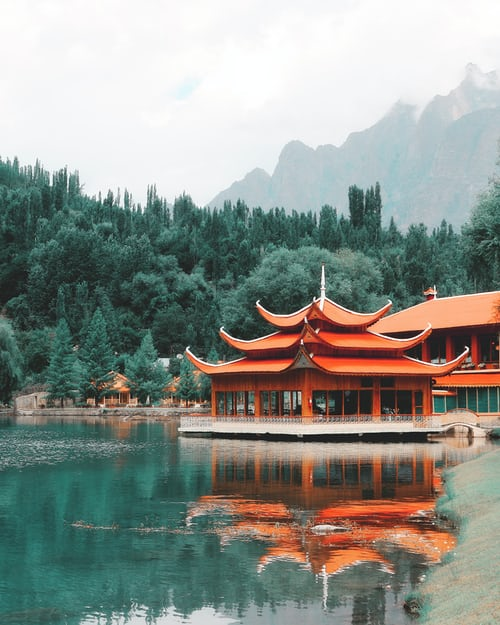Temple: (173, 263, 474, 427)
